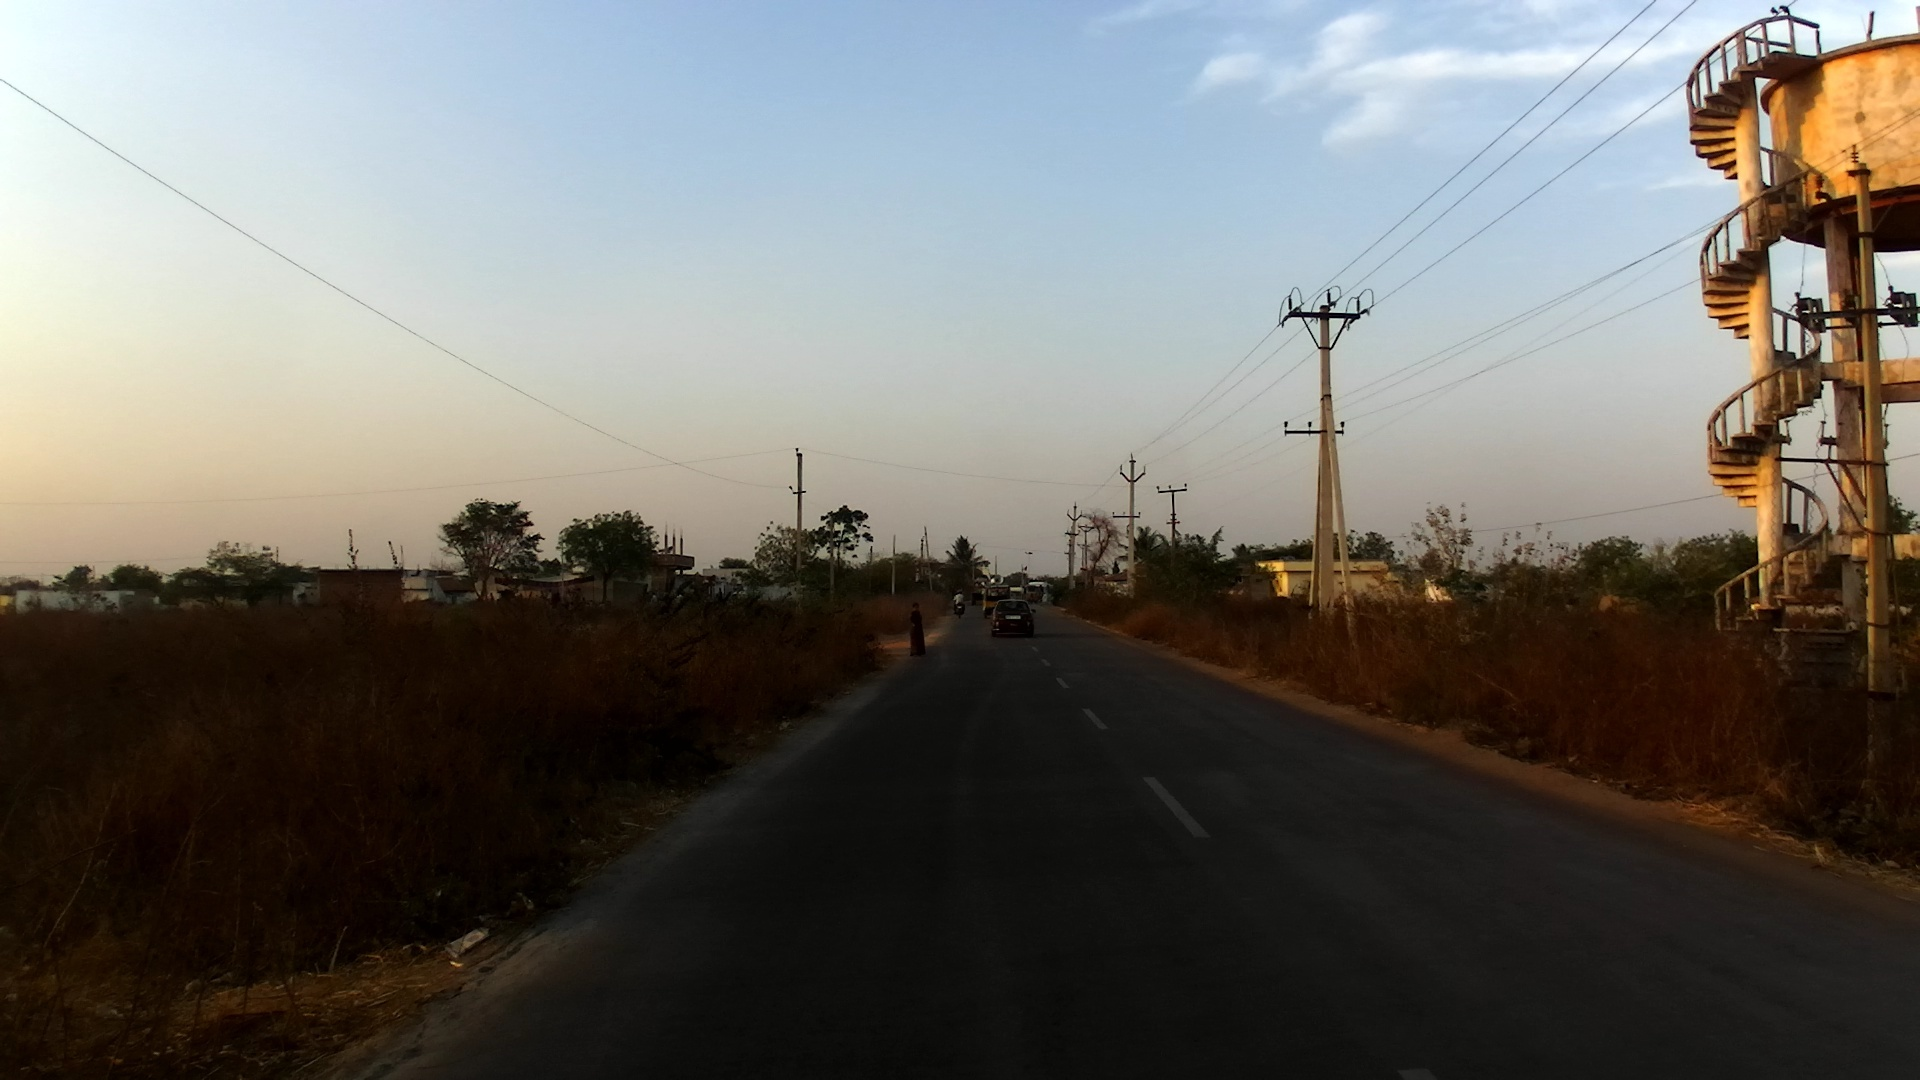autorickshaw: (980, 574, 1014, 620), (1022, 584, 1038, 602)
car: (991, 598, 1038, 635), (1009, 587, 1025, 600)
motorcycle: (953, 596, 968, 620)
person: (907, 601, 927, 658), (1036, 584, 1045, 605)
rider: (951, 587, 969, 621), (953, 589, 961, 601)
vehicle fallback: (971, 577, 991, 605)
